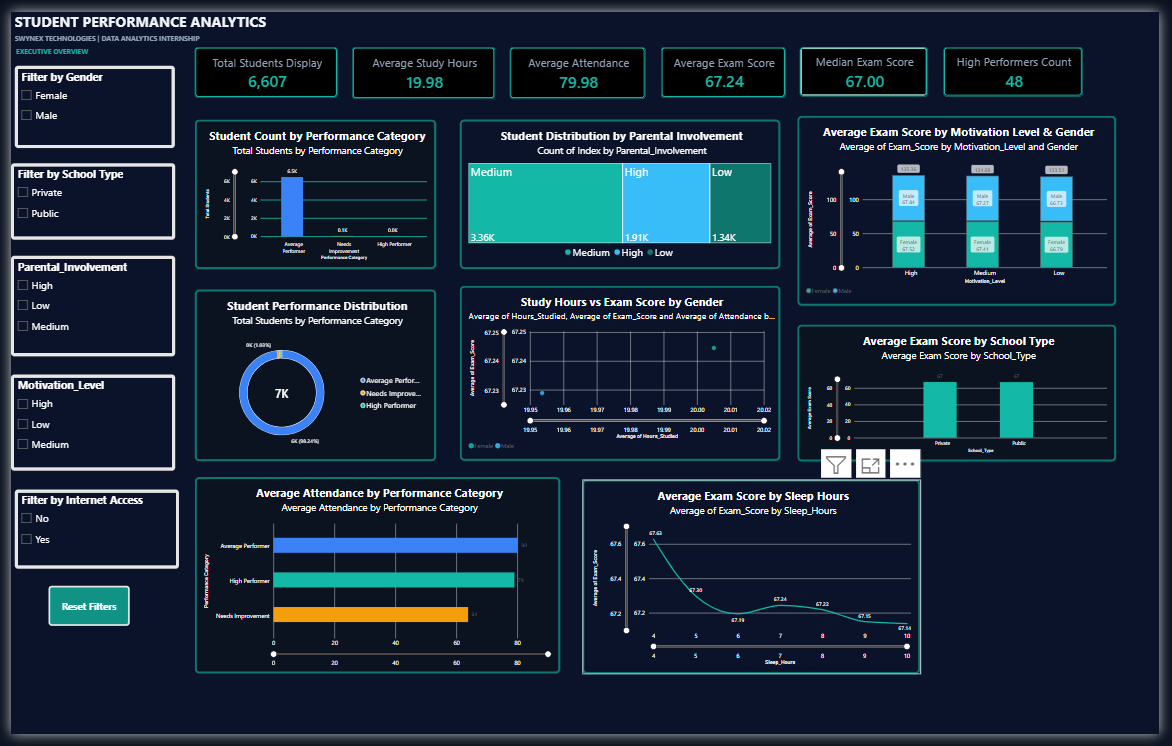

Layout of this report page (visuals, bound fields, positions):
{"tool":"powerbi","page":{"name":"Executive Overview","canvas":[2700,1700],"ordinal":0},"visuals":[{"type":"textbox","title":"STUDENT PERFORMANCE ANALYTICS","box":[10,0,620,50],"z":0},{"type":"textbox","box":[10,50,440,34],"z":1000},{"type":"textbox","box":[10.9,83.2,190,30.8],"z":2000},{"type":"cardVisual","fields":{"Data":["cleaned_student_data.Total Students Display"]},"box":[433,82.6,336.1,119.6],"z":3000},{"type":"cardVisual","fields":{"Data":["cleaned_student_data.Average Study Hours"]},"box":[803.9,82.6,336.1,122.5],"z":4000},{"type":"cardVisual","fields":{"Data":["cleaned_student_data.Average Attendance"]},"box":[1174.7,82.6,319,122.5],"z":5000},{"type":"cardVisual","fields":{"Data":["cleaned_student_data.Average Exam Score"]},"box":[1528.5,82.6,293.4,119.6],"z":6000},{"type":"donutChart","title":"Student Performance Distribution","fields":{"Category":["cleaned_student_data.Performance Category"],"Y":["cleaned_student_data.Total Students"]},"box":[432,652,568,404],"z":7000},{"type":"clusteredColumnChart","title":"Average Exam Score by School Type","fields":{"Category":["cleaned_student_data.School_Type"],"Y":["cleaned_student_data.Average Exam Score"]},"box":[1850,735,750,322.5],"z":8000},{"type":"clusteredBarChart","title":"Average Attendance by Performance Category","fields":{"Category":["cleaned_student_data.Performance Category"],"Y":["cleaned_student_data.Average Attendance"]},"box":[432.5,1095,860,462.5],"z":9000},{"type":"clusteredColumnChart","title":"Student Count by Performance Category","fields":{"Category":["cleaned_student_data.Performance Category"],"Y":["cleaned_student_data.Total Students"]},"box":[432,252,568,352],"z":10000},{"type":"slicer","fields":{"Values":["cleaned_student_data.Gender"]},"box":[10,126.7,376.7,193.3],"z":11000},{"type":"slicer","fields":{"Values":["cleaned_student_data.School_Type"]},"box":[0,356.7,386.7,180],"z":12000},{"type":"slicer","fields":{"Values":["cleaned_student_data.Motivation_Level"]},"box":[0,853.3,386.7,226.7],"z":13000},{"type":"scatterChart","title":"Study Hours vs Exam Score by Gender","fields":{"Series":["cleaned_student_data.Gender"],"X":["Avg(cleaned_student_data.Hours_Studied)"],"Y":["Avg(cleaned_student_data.Exam_Score)"]},"box":[1056,644,754,412],"z":14000},{"type":"lineStackedColumnComboChart","title":"Average Exam Score by Motivation Level & Gender","fields":{"Category":["cleaned_student_data.Motivation_Level"],"Series":["cleaned_student_data.Gender"],"Y":["Avg(cleaned_student_data.Exam_Score)"]},"box":[1850,245,750,447.5],"z":15000},{"type":"treemap","title":"Student Distribution by Parental Involvement","fields":{"Group":["cleaned_student_data.Parental_Involvement"],"Values":["CountNonNull(cleaned_student_data.Index)"]},"box":[1056,252,754,352],"z":16000},{"type":"lineChart","title":"Average Exam Score by Sleep Hours","fields":{"Category":["cleaned_student_data.Sleep_Hours"],"Y":["Avg(cleaned_student_data.Exam_Score)"]},"box":[1345,1100,795,457.5],"z":17000},{"type":"slicer","fields":{"Values":["cleaned_student_data.Parental_Involvement"]},"box":[0,573.3,386.7,236.7],"z":18000},{"type":"slicer","fields":{"Values":["cleaned_student_data.Internet_Access"]},"box":[10,1123.3,386.7,186.7],"z":19000},{"type":"cardVisual","fields":{"Data":["cleaned_student_data.Median Exam Score"]},"box":[1856.7,82.6,301.9,116.8],"z":20000},{"type":"cardVisual","fields":{"Data":["cleaned_student_data.High Performers Count"]},"box":[2193.4,82.6,327.6,116.8],"z":21000},{"type":"actionButton","box":[88.3,1350.2,190.9,94],"z":21001}]}

Visuals, with their boxes in screenshot pixels (x1, y1, x2, y2), scaled from the page's 2700x1700 canvas onto the 1172x746 screenshot:
"STUDENT PERFORMANCE ANALYTICS" textbox: box=[4, 0, 273, 22]
textbox: box=[4, 22, 195, 37]
textbox: box=[5, 37, 87, 50]
cardVisual - cleaned_student_data.Total Students Display: box=[188, 36, 334, 89]
cardVisual - cleaned_student_data.Average Study Hours: box=[349, 36, 495, 90]
cardVisual - cleaned_student_data.Average Attendance: box=[510, 36, 648, 90]
cardVisual - cleaned_student_data.Average Exam Score: box=[663, 36, 791, 89]
"Student Performance Distribution" donutChart: box=[188, 286, 434, 463]
"Average Exam Score by School Type" clusteredColumnChart: box=[803, 323, 1129, 464]
"Average Attendance by Performance Category" clusteredBarChart: box=[188, 481, 561, 683]
"Student Count by Performance Category" clusteredColumnChart: box=[188, 111, 434, 265]
slicer - cleaned_student_data.Gender: box=[4, 56, 168, 140]
slicer - cleaned_student_data.School_Type: box=[0, 157, 168, 236]
slicer - cleaned_student_data.Motivation_Level: box=[0, 374, 168, 474]
"Study Hours vs Exam Score by Gender" scatterChart: box=[458, 283, 786, 463]
"Average Exam Score by Motivation Level & Gender" lineStackedColumnComboChart: box=[803, 108, 1129, 304]
"Student Distribution by Parental Involvement" treemap: box=[458, 111, 786, 265]
"Average Exam Score by Sleep Hours" lineChart: box=[584, 483, 929, 683]
slicer - cleaned_student_data.Parental_Involvement: box=[0, 252, 168, 355]
slicer - cleaned_student_data.Internet_Access: box=[4, 493, 172, 575]
cardVisual - cleaned_student_data.Median Exam Score: box=[806, 36, 937, 88]
cardVisual - cleaned_student_data.High Performers Count: box=[952, 36, 1094, 88]
actionButton: box=[38, 592, 121, 634]
